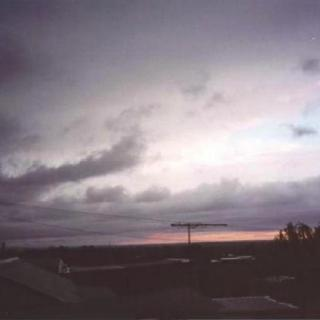Stratus: (0, 8, 320, 231)
